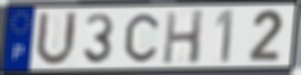1: (214, 7, 235, 66)
2: (246, 8, 286, 65)
3: (81, 12, 115, 65)
C: (123, 12, 161, 64)
H: (161, 8, 207, 66)
U: (33, 10, 80, 69)
